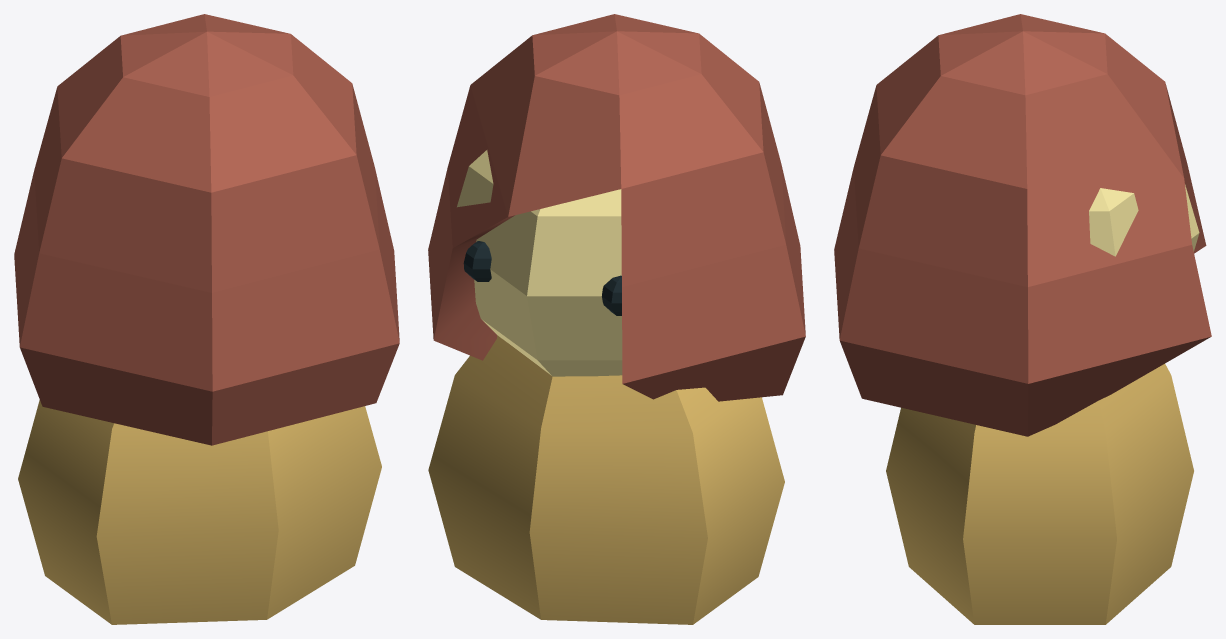
The model's file is RobinDoll_Mesh.fbx.
3 views of the same model, side by side, from view 1: azimuth 30°, elevation 25°; view 2: azimuth 150°, elevation 25°; view 3: azimuth 270°, elevation 25° (orthographic). The views are drawn at different scales.
Visible parts, largest first — view 1: polySurface61; view 2: polySurface61; view 3: polySurface61.
Part boxes in pixels (left/top/right/bottom): polySurface61: left=14, top=14, right=399, bottom=624; polySurface61: left=428, top=14, right=805, bottom=624; polySurface61: left=834, top=14, right=1211, bottom=624.
Size of the model in its own units: 3.16 by 4.34 by 2.78.
